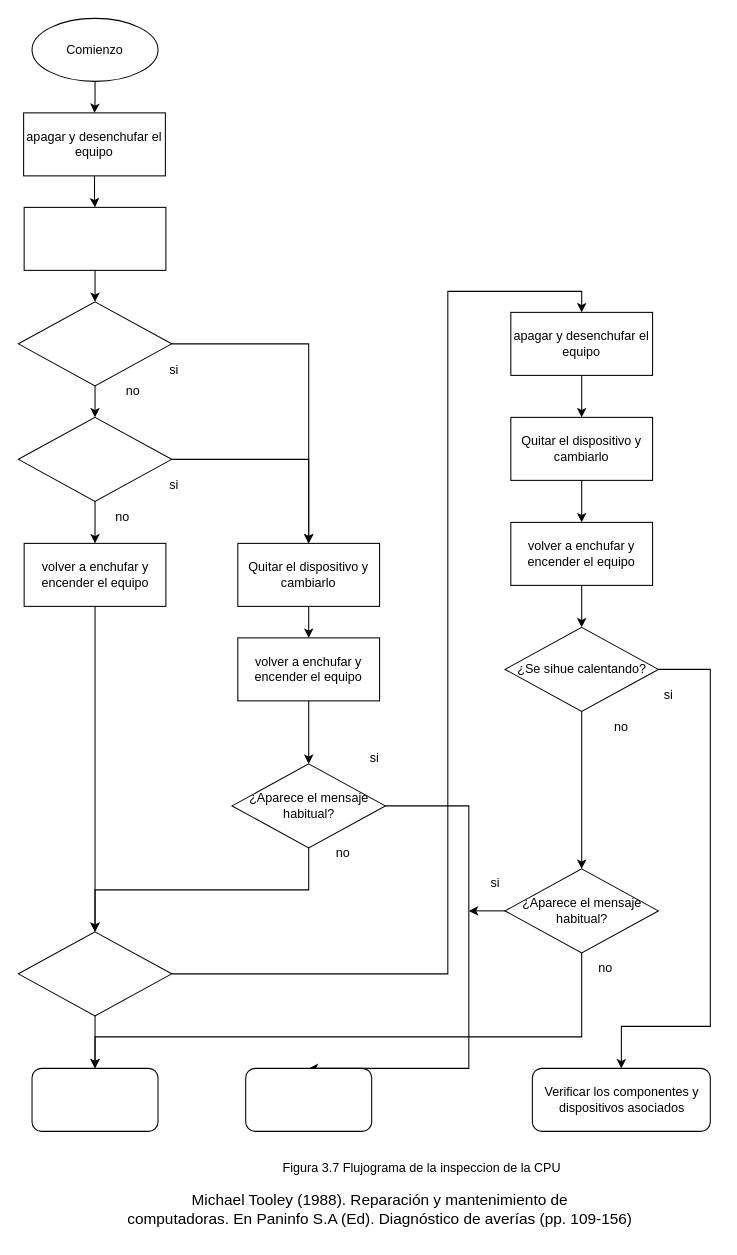
Image size: 737x1255. Some labels were removed from this diagram. The centre of each missing label's shape, as x and y in pixels:
"Continuar haciendo el diagnostico de la CPU" belongs at pixel 94 1099.
"inspeccion visual" belongs at pixel 94 238.
"Realizar la rutina de diagnostico por software" belongs at pixel 308 1099.
"¿Hay algun componeneete defectuoso?" belongs at pixel 94 343.
"¿Hay algun componeneete descolorido?" belongs at pixel 94 458.
"¿Se calienta algun dispositivo?" belongs at pixel 94 973.
